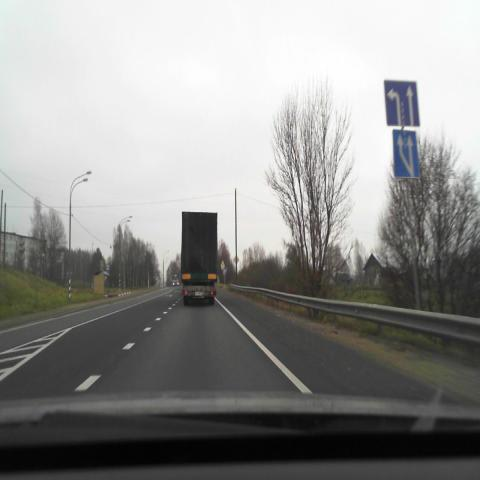5_15_3: (393, 129, 419, 177)
